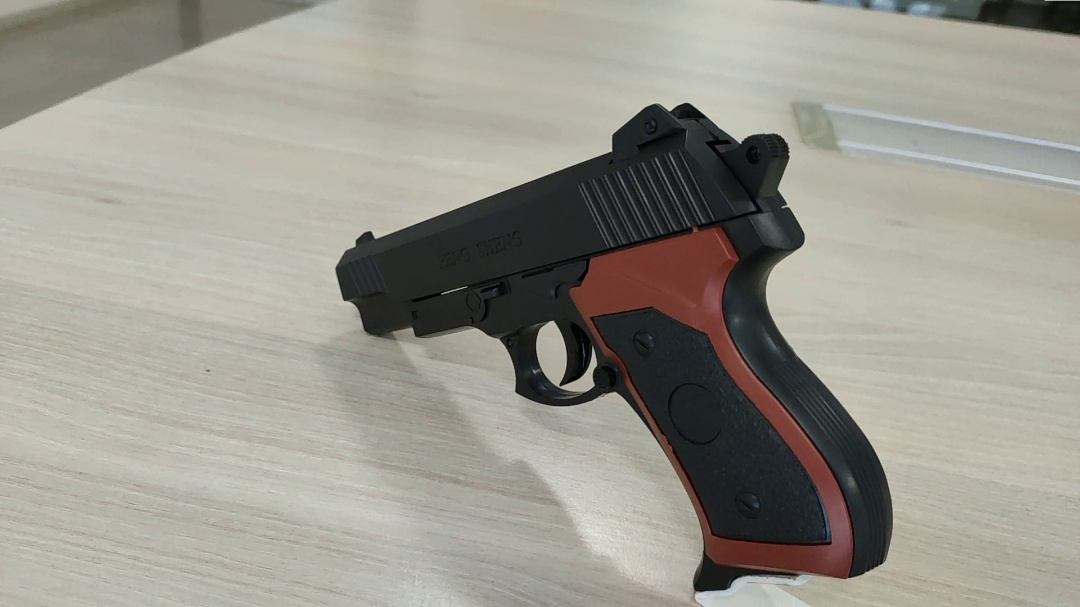gun: (592, 217, 754, 284)
